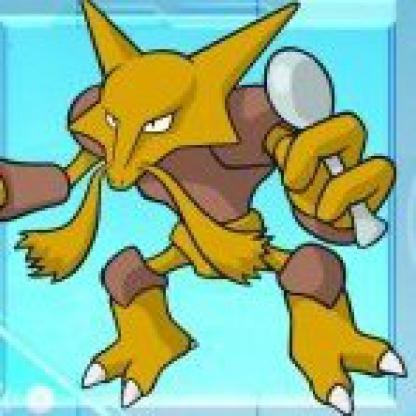Alakazam: (12, 1, 415, 415)
